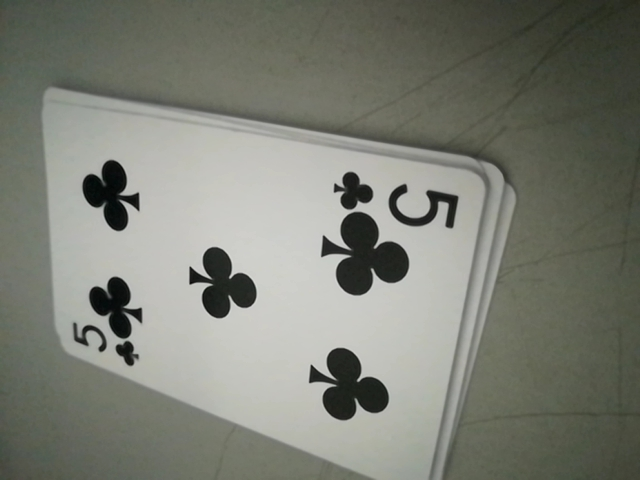mh 5: (331, 169, 468, 225), (65, 322, 145, 369)
